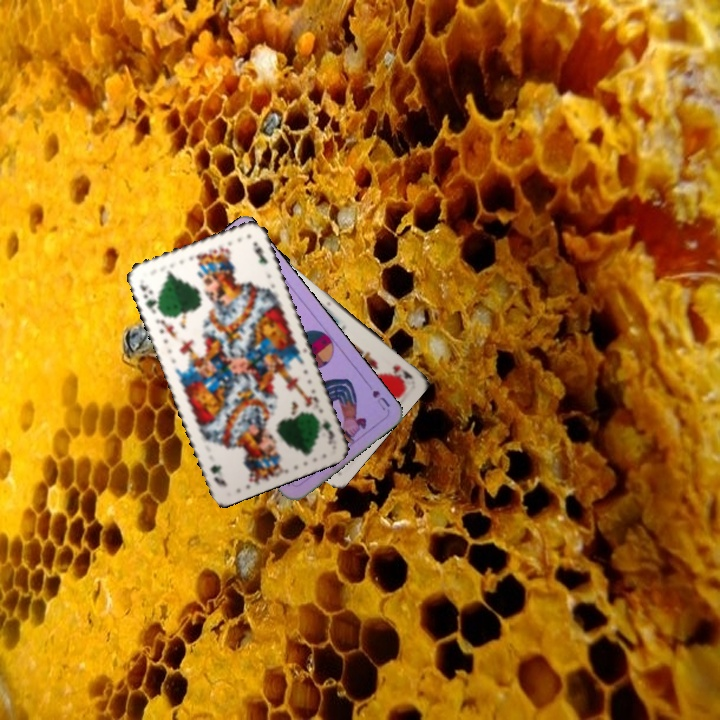GK: (135, 278, 163, 315), (313, 412, 337, 447)
HK: (388, 361, 415, 385)
SU: (361, 377, 393, 413)
